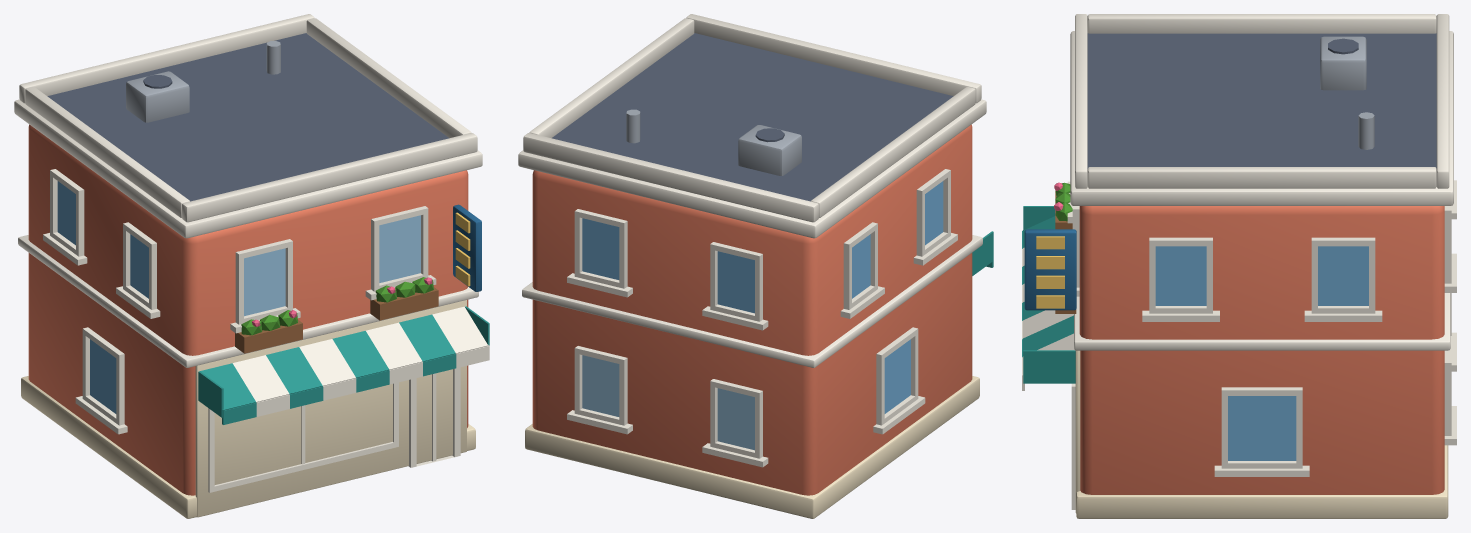
The model's file is building_cafe.glb.
3 views of the same model, side by side, from view 1: azimuth 30°, elevation 25°; view 2: azimuth 150°, elevation 25°; view 3: azimuth 270°, elevation 25° (orthographic). The views are drawn at different scales.
Parts seen in each view (by area): view 1: building; view 2: building; view 3: building.
Part boxes in pixels (x1,y1,x2,y2): building: (14, 14, 489, 518); building: (518, 14, 993, 518); building: (1022, 14, 1456, 518).
Size of the model in its own units: 6.72 by 6.98 by 7.51.
